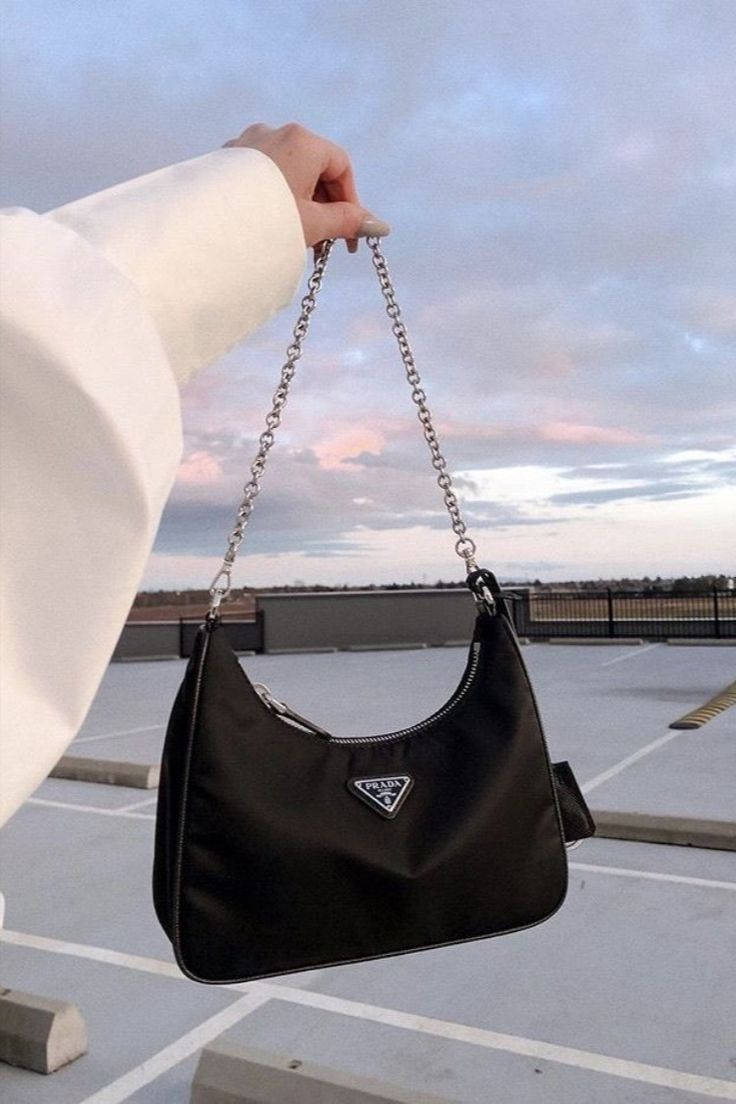nylon: (152, 570, 596, 987)
